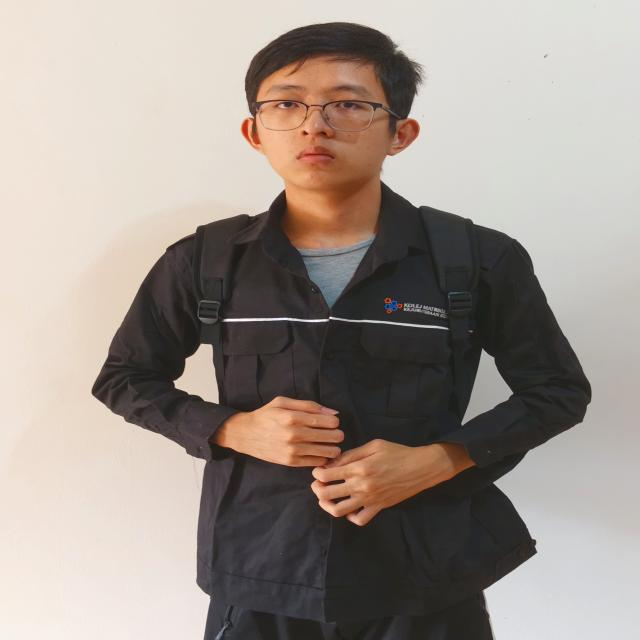person_with_labcoat: (92, 23, 590, 640)
